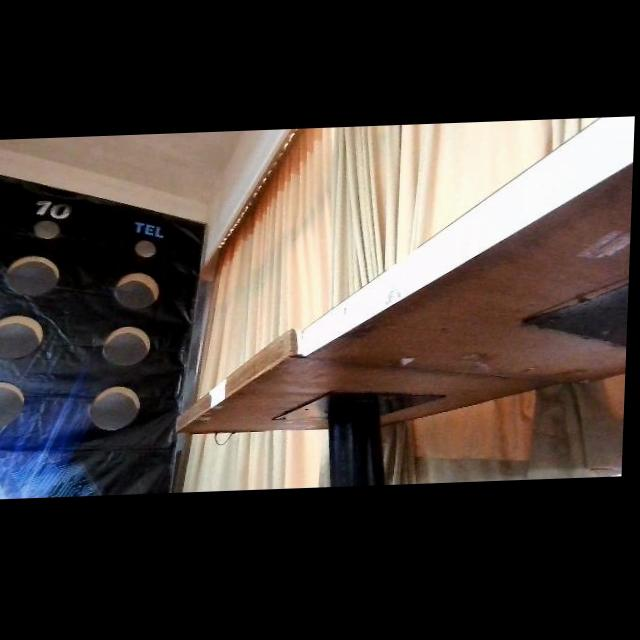hole: (3, 253, 61, 298), (89, 386, 141, 432), (0, 313, 43, 361), (103, 325, 151, 367), (113, 270, 160, 312), (0, 379, 27, 429), (33, 219, 61, 241), (134, 239, 157, 258)
